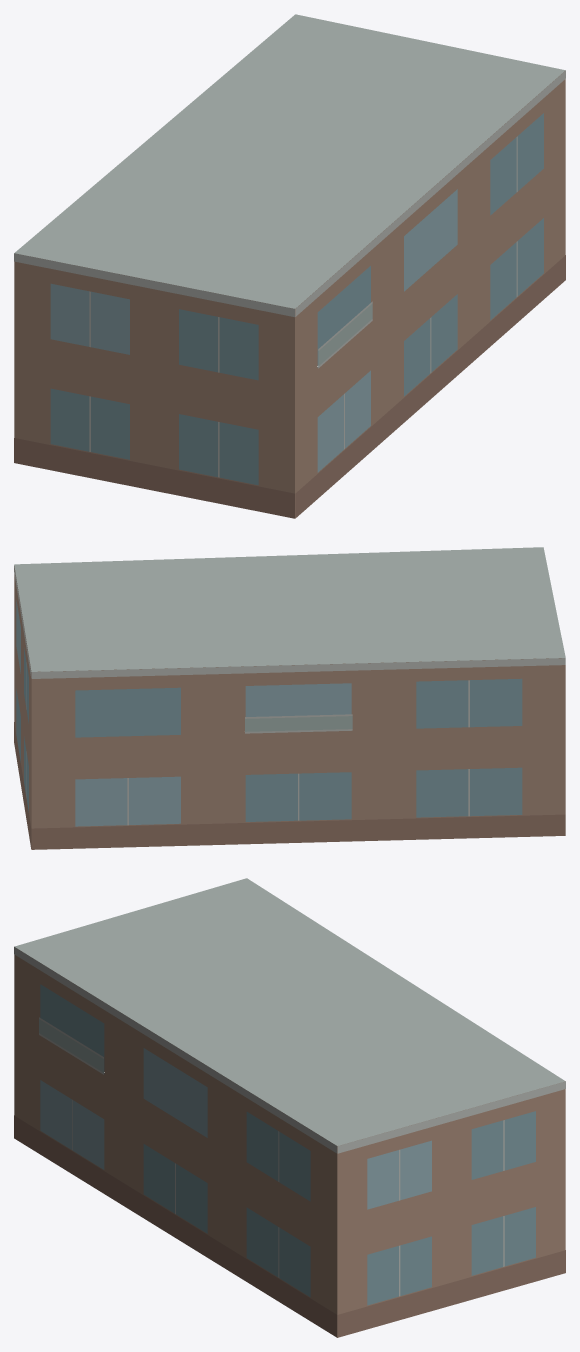
Rendered from survey-upis-32887572.glb.
The picture shows the model from 3 angles, top to bottom: view 1: azimuth 30°, elevation 25°; view 2: azimuth 150°, elevation 25°; view 3: azimuth 270°, elevation 25°; orthographic projection. The views are drawn at different scales.
Parts seen in each view (by area): view 1: survey-upis-32887572.tmp; view 2: survey-upis-32887572.tmp; view 3: survey-upis-32887572.tmp.
Boxes of the visible parts, box(x1,y1,x2,y2) form: survey-upis-32887572.tmp: box(14, 14, 565, 518); survey-upis-32887572.tmp: box(14, 547, 565, 849); survey-upis-32887572.tmp: box(14, 878, 565, 1337).
Size of the model in its own units: 18.3 by 6.1 by 15.92.
